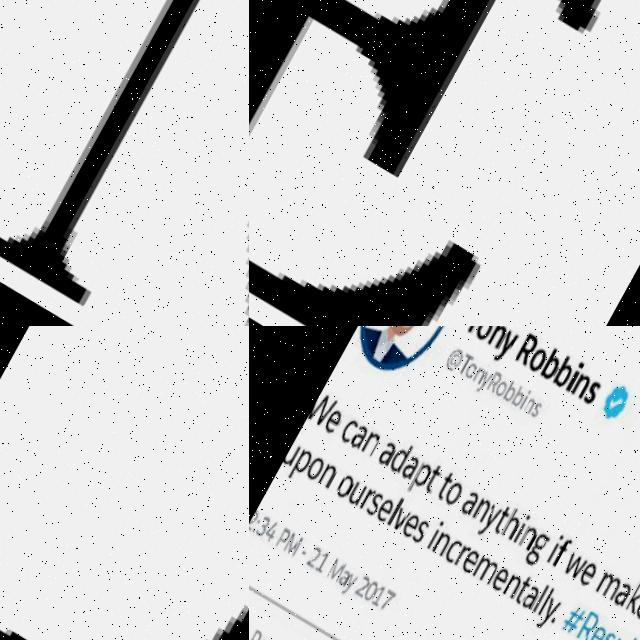0: (360, 574, 381, 603)
1: (370, 580, 388, 605), (314, 549, 331, 574)
2: (353, 570, 372, 596), (304, 543, 322, 568), (249, 508, 259, 529)
3: (254, 513, 272, 538)
4: (262, 518, 280, 544)
7: (378, 584, 397, 610), (529, 395, 543, 415)
E: (249, 0, 492, 175)
J: (0, 326, 249, 640)
N: (0, 0, 249, 326)
